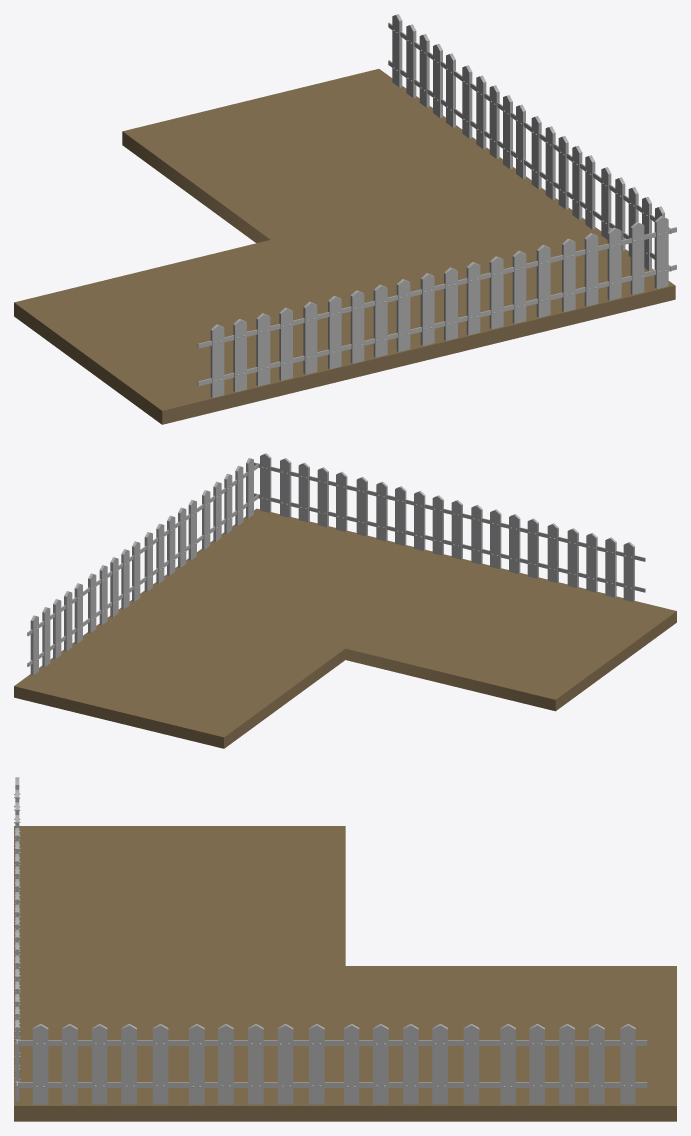
The model's file is balcon_coin.fbx.
The picture shows the model from 3 angles, top to bottom: view 1: azimuth 30°, elevation 25°; view 2: azimuth 150°, elevation 25°; view 3: azimuth 270°, elevation 25°; orthographic projection. The views are drawn at different scales.
Visible parts, largest first — view 1: pCube3, cloture5 (×4), cloture8, cloture10, cloture9, cloture7; view 2: pCube3, cloture5 (×4), cloture10, cloture9, cloture7, cloture8; view 3: pCube3, cloture7, cloture8, cloture9, cloture10, cloture5.
Part boxes in pixels (bbox=[...]): pCube3: bbox=[14, 69, 675, 424]; cloture5 (×4): bbox=[197, 216, 676, 397]; cloture8: bbox=[527, 116, 601, 229]; cloture10: bbox=[388, 14, 462, 127]; cloture9: bbox=[458, 65, 531, 178]; cloture7: bbox=[597, 167, 671, 271]; pCube3: bbox=[14, 508, 676, 748]; cloture5 (×4): bbox=[254, 453, 645, 602]; cloture10: bbox=[27, 583, 88, 675]; cloture9: bbox=[85, 541, 145, 633]; cloture7: bbox=[199, 458, 259, 550]; cloture8: bbox=[142, 500, 200, 591]; pCube3: bbox=[14, 826, 676, 1121]; cloture7: bbox=[15, 1023, 179, 1104]; cloture8: bbox=[171, 1023, 335, 1104]; cloture9: bbox=[327, 1023, 490, 1104]; cloture10: bbox=[483, 1023, 647, 1104]; cloture5: bbox=[14, 969, 20, 1101].
Bounding box in the file's own units: 73.8 × 11.63 × 73.46.
